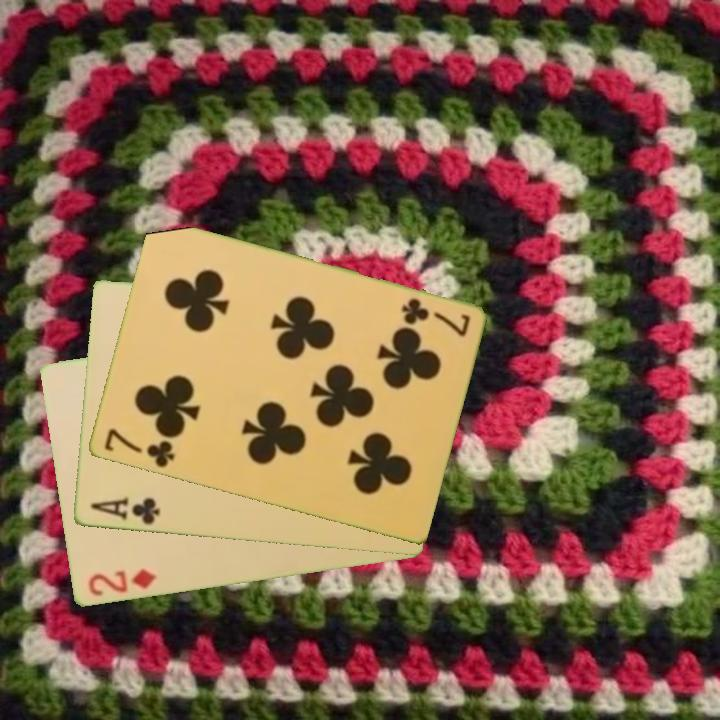2d: (84, 565, 158, 600)
7c: (100, 425, 177, 471), (397, 294, 472, 340)
Ac: (86, 494, 162, 528)
